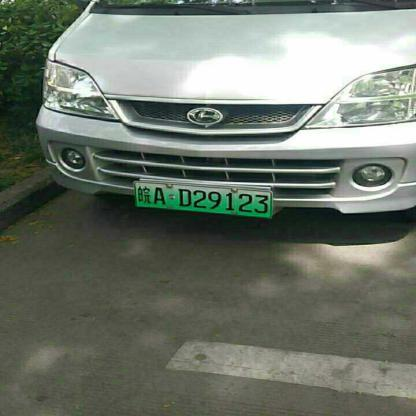lp: (132, 180, 272, 218)
